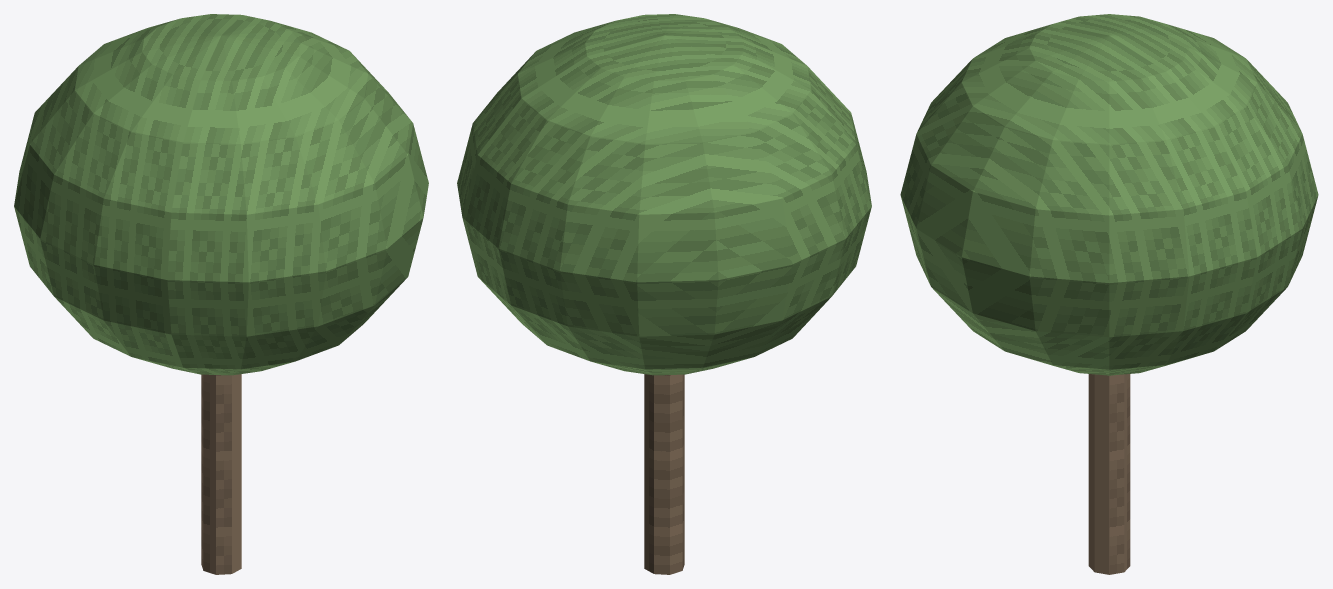
File: tree_oak.glb
3 views of the same model, side by side, from view 1: azimuth 30°, elevation 25°; view 2: azimuth 150°, elevation 25°; view 3: azimuth 270°, elevation 25° (orthographic).
Bounding box in the file's own units: 5 × 7 × 5.
2 materials, 2 textured.
